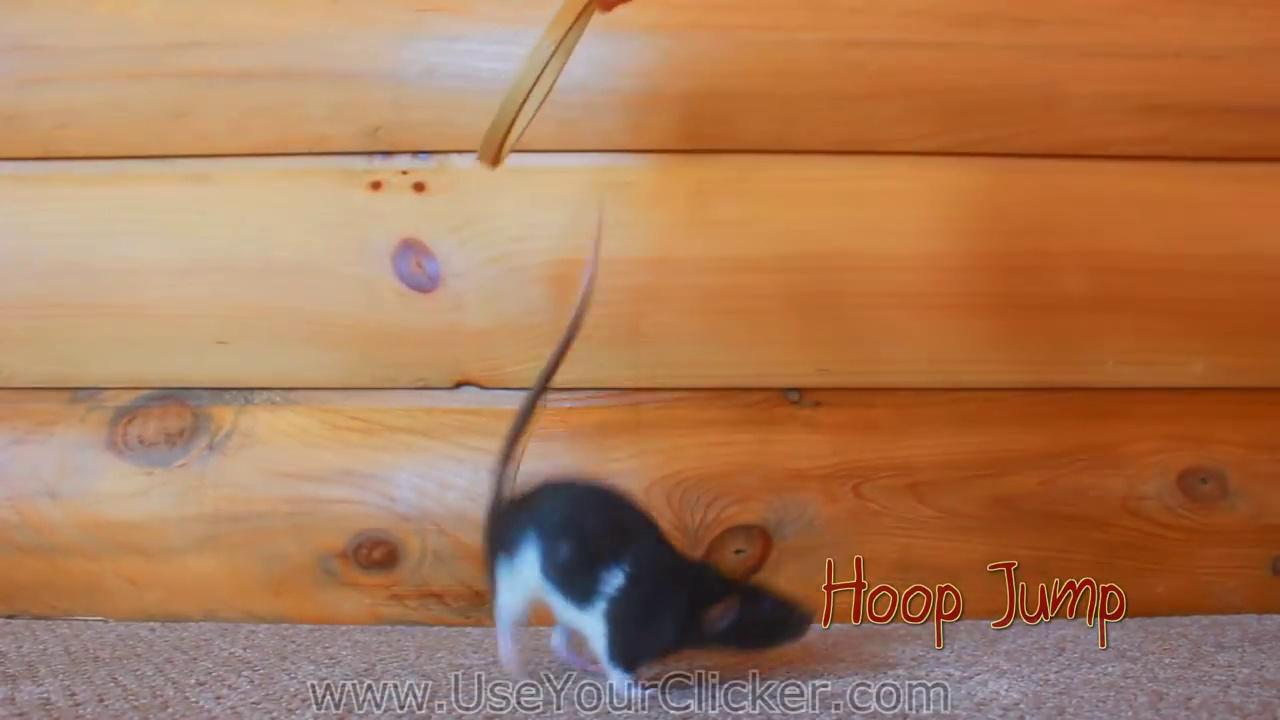rat: (490, 204, 811, 696)
